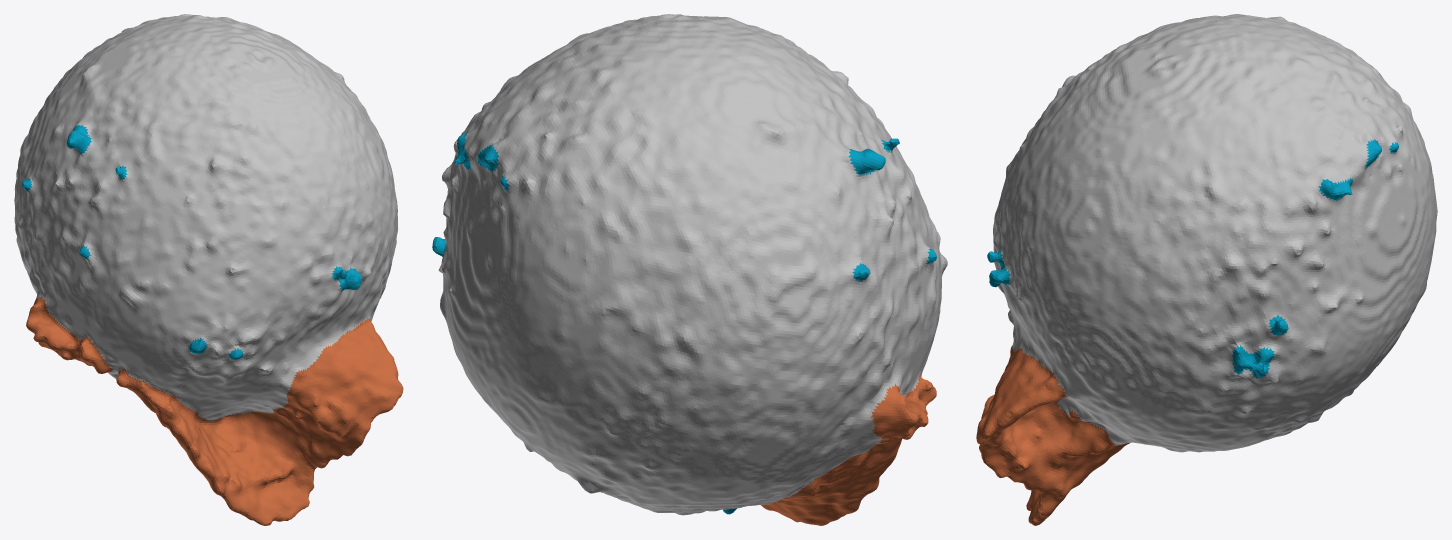
3 renders of one model, left to right at view 1: azimuth 30°, elevation 25°; view 2: azimuth 150°, elevation 25°; view 3: azimuth 270°, elevation 25°, orthographic. The views are drawn at different scales.
Bounding box in the file's own units: 127 × 151 × 130.
